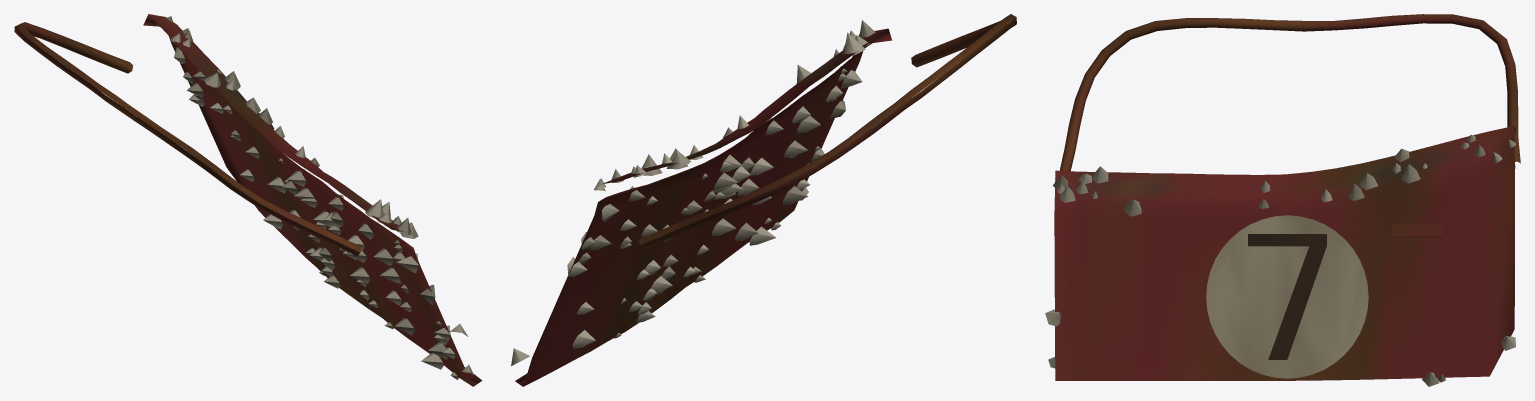
File: door.glb
3 renders of one model, left to right at view 1: azimuth 30°, elevation 25°; view 2: azimuth 150°, elevation 25°; view 3: azimuth 270°, elevation 25°, orthographic. The views are drawn at different scales.
Visible parts, largest first — view 1: door; view 2: door; view 3: door.
Boxes of the visible parts, x1=… form: door: x1=14, y1=14, x2=482, y2=386; door: x1=511, y1=14, x2=1016, y2=386; door: x1=1045, y1=14, x2=1520, y2=386.
Bounding box in the file's own units: 0.6309 × 0.6152 × 1.02.
